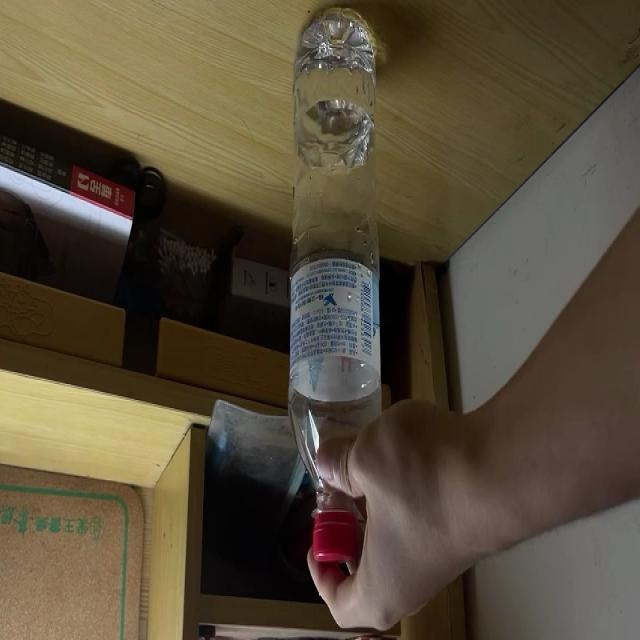Water: (290, 7, 381, 566)
